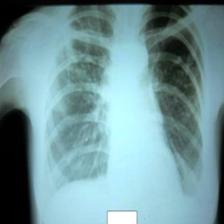tuberculosis: (31, 5, 211, 209)
